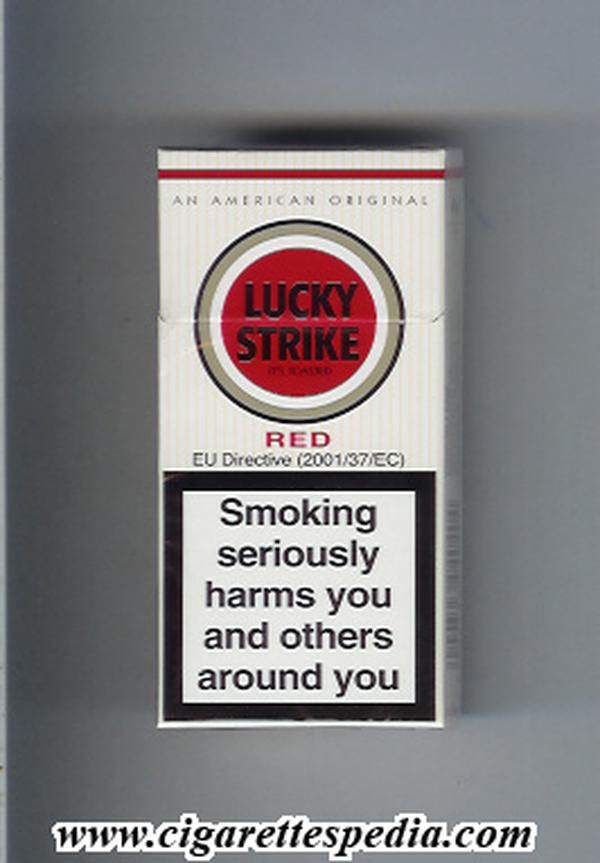lucky_strike_red: (158, 152, 448, 731)
